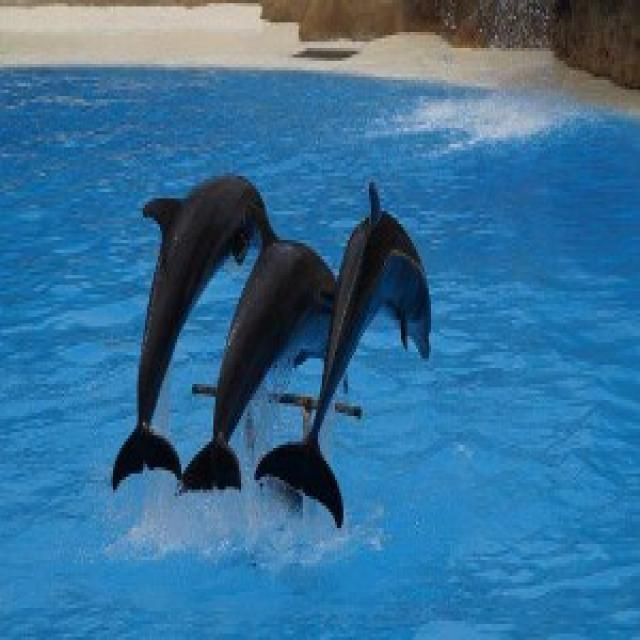Dolphin: (78, 148, 246, 489), (305, 178, 445, 546), (188, 226, 336, 509)
